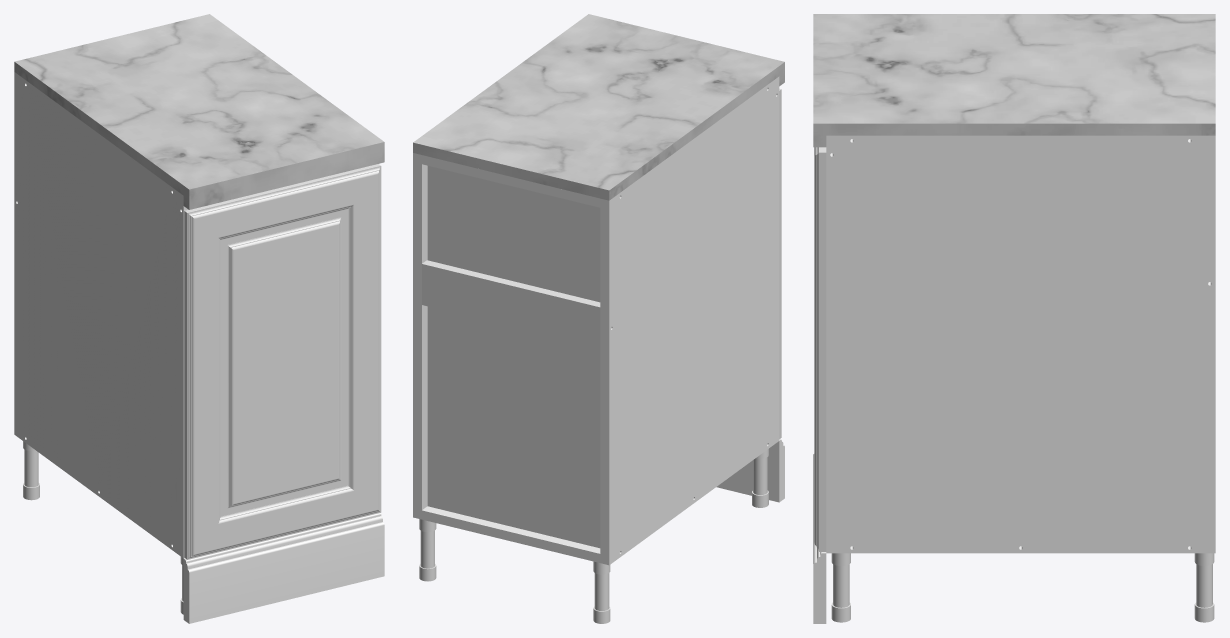
Rendered from BBK 040x60x85-transformed.glb.
The picture shows the model from 3 angles, left to right: view 1: azimuth 30°, elevation 25°; view 2: azimuth 150°, elevation 25°; view 3: azimuth 270°, elevation 25°; orthographic projection. The views are drawn at different scales.
Parts seen in each view (by area): view 1: 3DGeom-5, 3DGeom-3, 3DGeom-10; view 2: 3DGeom-5, 3DGeom-3, 3DGeom-10; view 3: 3DGeom-5, 3DGeom-10, 3DGeom-3.
Part boxes in pixels (x1,y1,x2,y2): 3DGeom-5: [14, 72, 384, 623]; 3DGeom-3: [23, 164, 381, 614]; 3DGeom-10: [14, 14, 384, 209]; 3DGeom-5: [413, 76, 784, 565]; 3DGeom-3: [419, 88, 781, 623]; 3DGeom-10: [413, 14, 784, 200]; 3DGeom-5: [813, 135, 1215, 623]; 3DGeom-10: [813, 14, 1215, 147]; 3DGeom-3: [814, 147, 1214, 622].
Bounding box in the file's own units: 0.4 × 0.85 × 0.62.
Materials: 3 (1 with a texture image).
